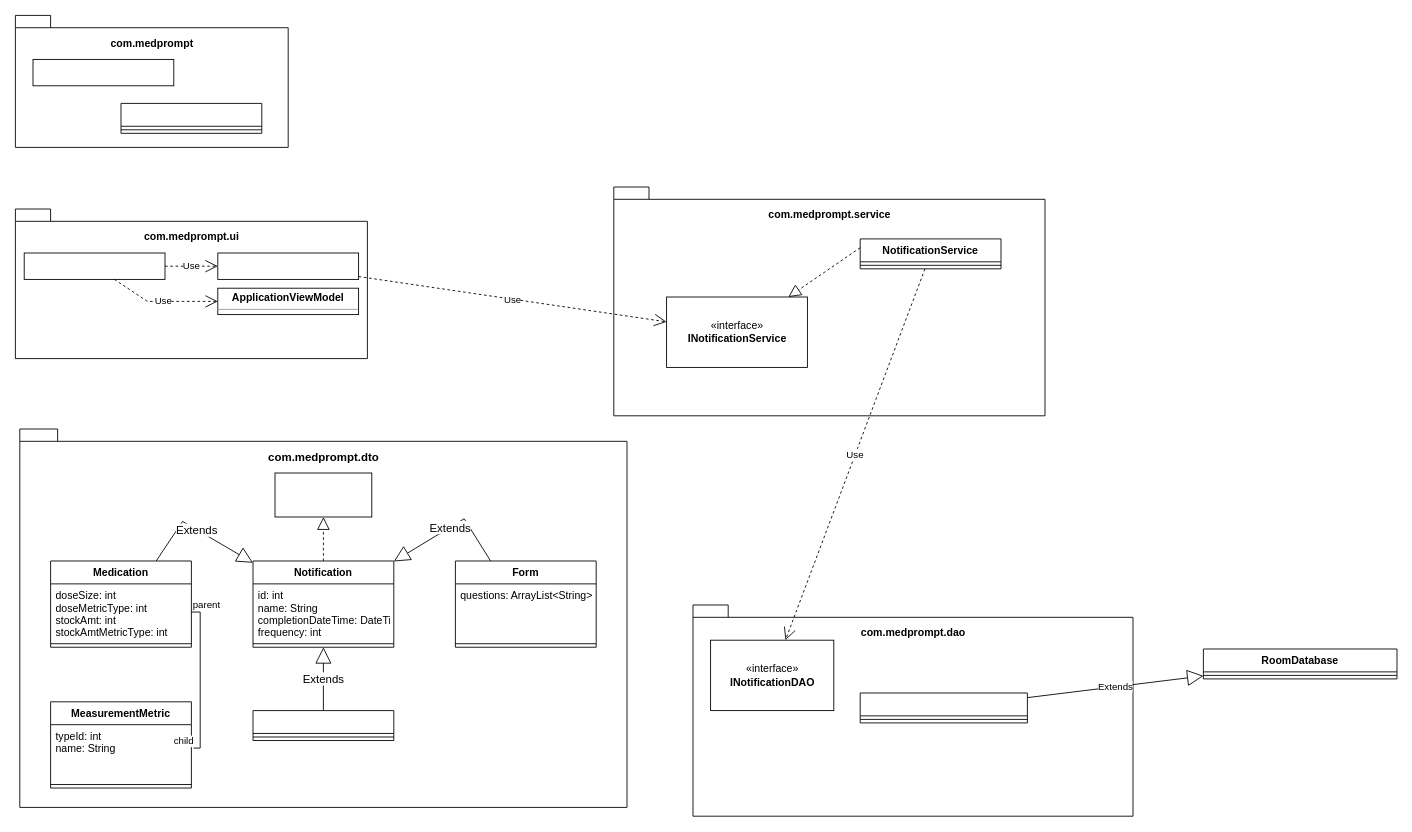
The diagram is 1412 pixels wide and 832 high, and some of its shapes have lost their labels. The shapes that lost their labels are listed below. From the top down, each one's centre as x and y in pixels, then its label:
At (x=103, y=72): "AppModule".
At (x=191, y=118): "FirebaseInstance".
At (x=94, y=265): "MainActivity".
At (x=288, y=265): "ViewModel".
At (x=323, y=494): "«interface» INotification".
At (x=323, y=725): "Appointment".
At (x=943, y=707): "NotificationLocalDatabase".
